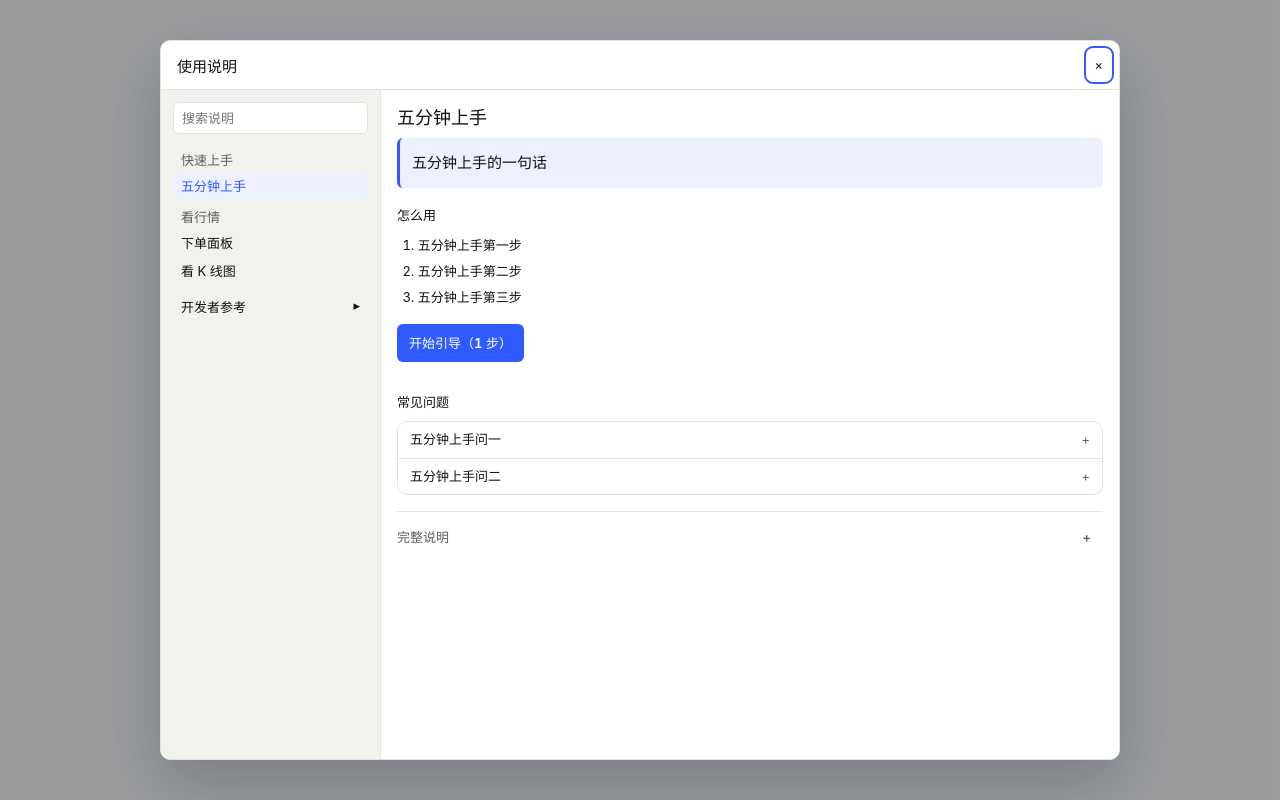
Test: 搜索同时匹配各层：只命中完整说明时切到该主题、自动展开完整说明并高亮
The width and height of the screenshot is (1280, 800).
Check: the element named "五分钟上手" is shown, box [381,90,1119,759]
In the search field labelled "搜索说明": (270, 118) [173,102,368,134], type "点五档"
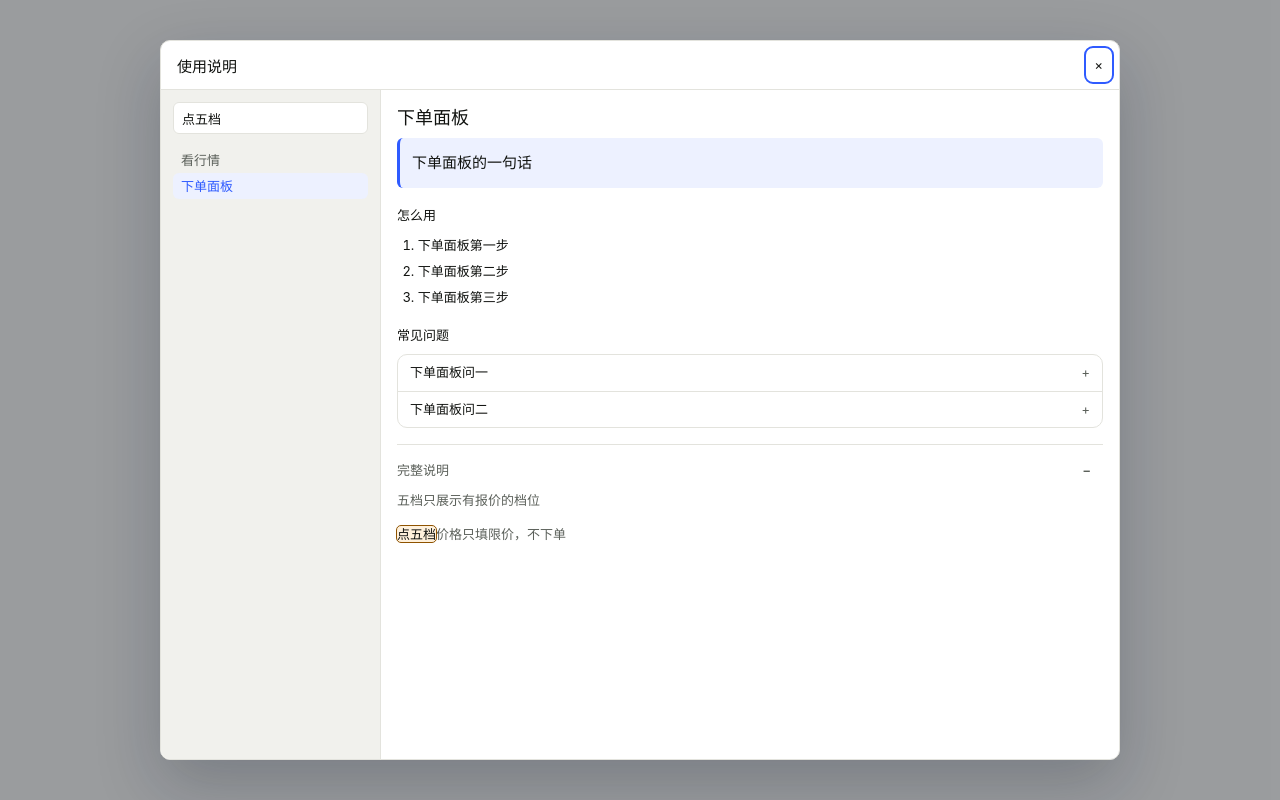
Check: the buttons read "下单面板", in this order, box [173,173,368,199]
Check: the button "完整说明" is expanded, box [397,453,1103,489]
Check: the text "点五档" is shown, box [397,526,436,542]
Replace the text in the search field with "K 线图答二": (270, 118) [173,102,368,134]
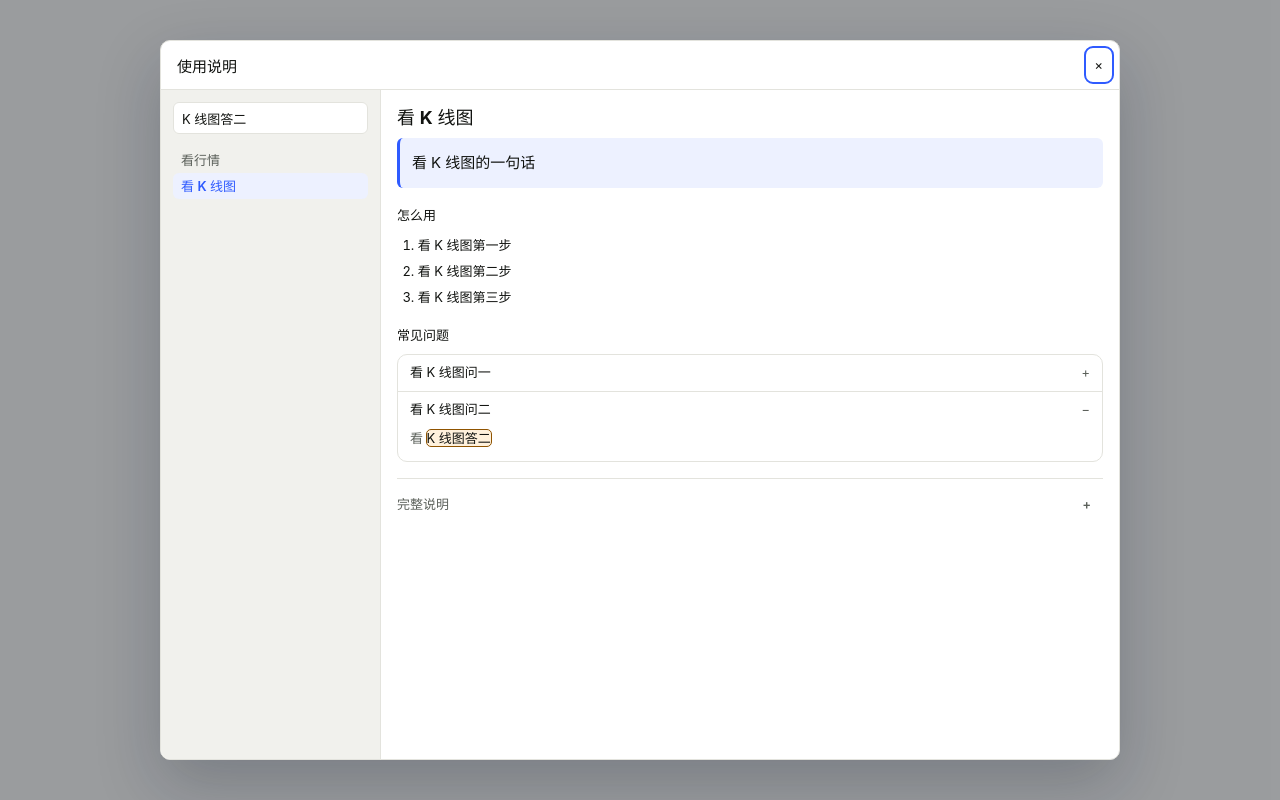
Check: the button "看 K 线图问二" is expanded, box [398,392,1102,427]
Replace the text in the search field with "不存在的词": (270, 118) [173,102,368,134]
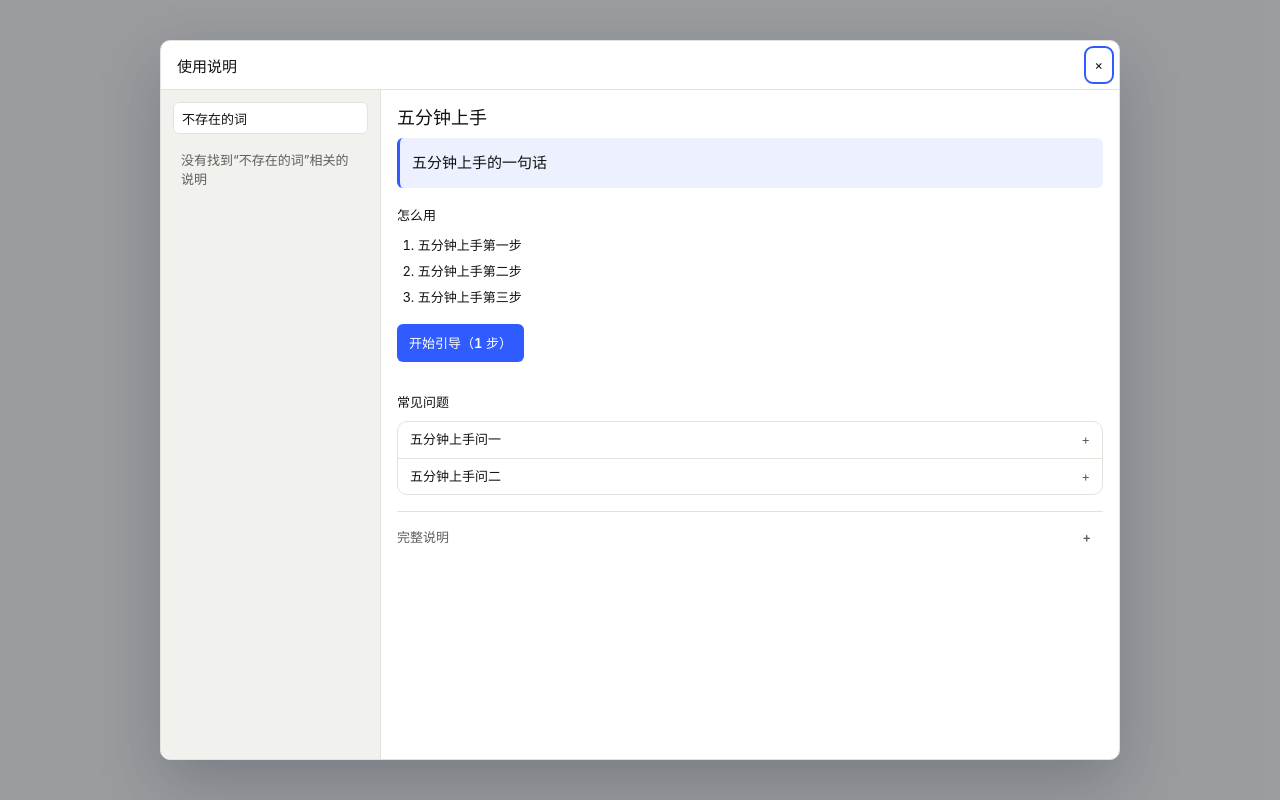
Check: the text "没有找到“不存在的词”相关的说明" is shown, box [181,150,360,188]
